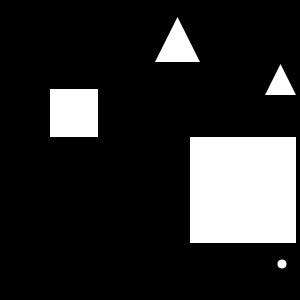circle: (190, 137, 296, 243), (50, 89, 98, 137)
rectangle: (278, 260, 286, 268)
triangle: (155, 17, 200, 62), (265, 64, 296, 95)
